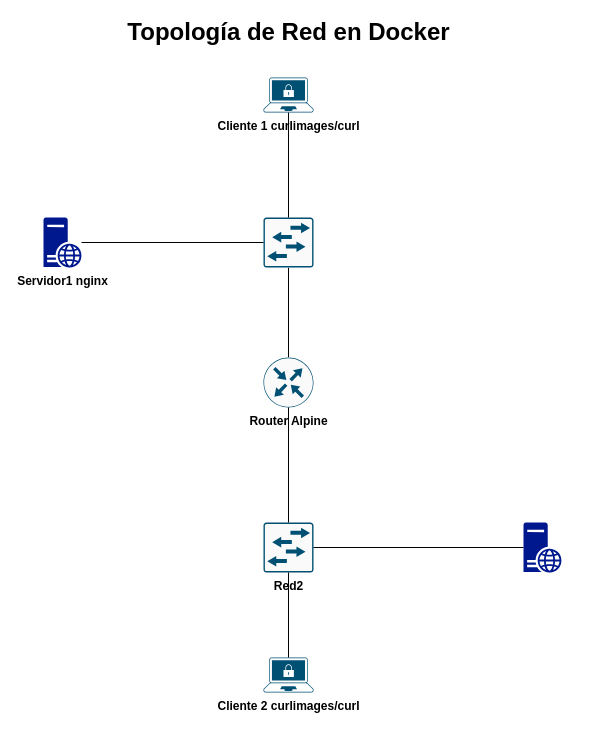
Image size: 605x730. Some labels were removed from this diagram. Each missing label, with the centre of its shape:
Red1: pixel 288 242
Servidor2 nginx: pixel 542 547
